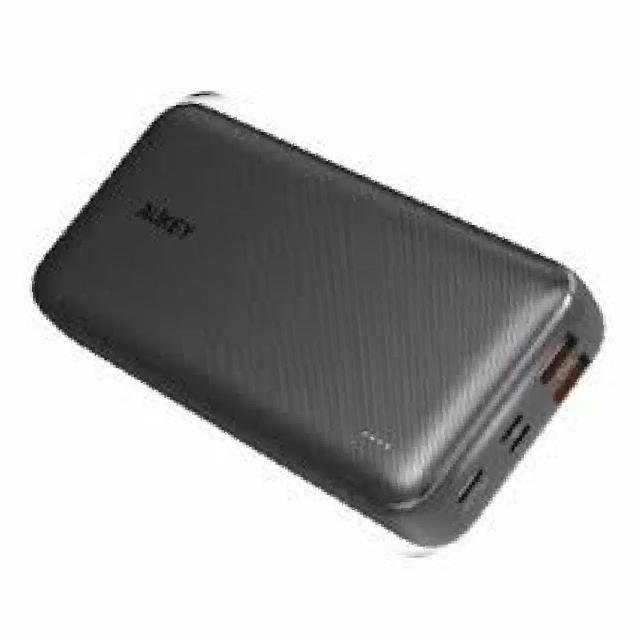Battery: (9, 100, 640, 595)
